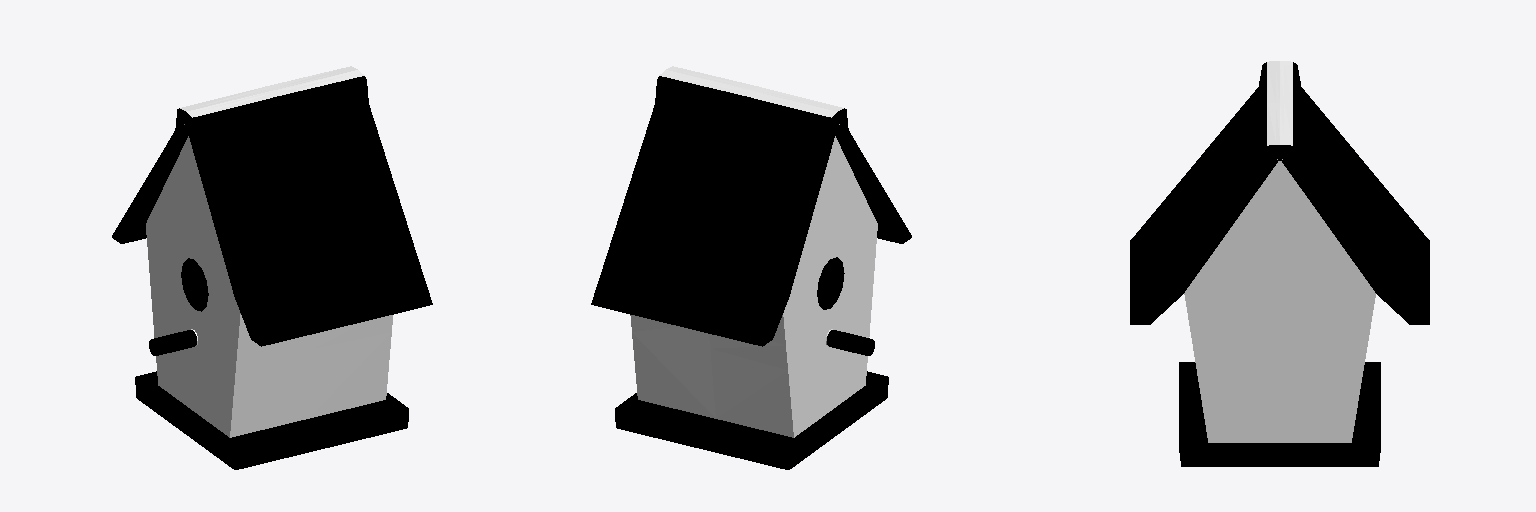
Rendered from birdhouse 1.obj.
3 views of the same model, side by side, from view 1: azimuth 30°, elevation 25°; view 2: azimuth 150°, elevation 25°; view 3: azimuth 270°, elevation 25° (orthographic).
Parts seen in each view (by area): view 1: pCylinder3; view 2: pCylinder3; view 3: pCylinder3.
Boxes of the visible parts, x1=… form: pCylinder3: x1=112, y1=66, x2=432, y2=469; pCylinder3: x1=591, y1=66, x2=911, y2=469; pCylinder3: x1=1130, y1=61, x2=1429, y2=466.
Size of the model in its own units: 5.86 by 8.8 by 7.41.